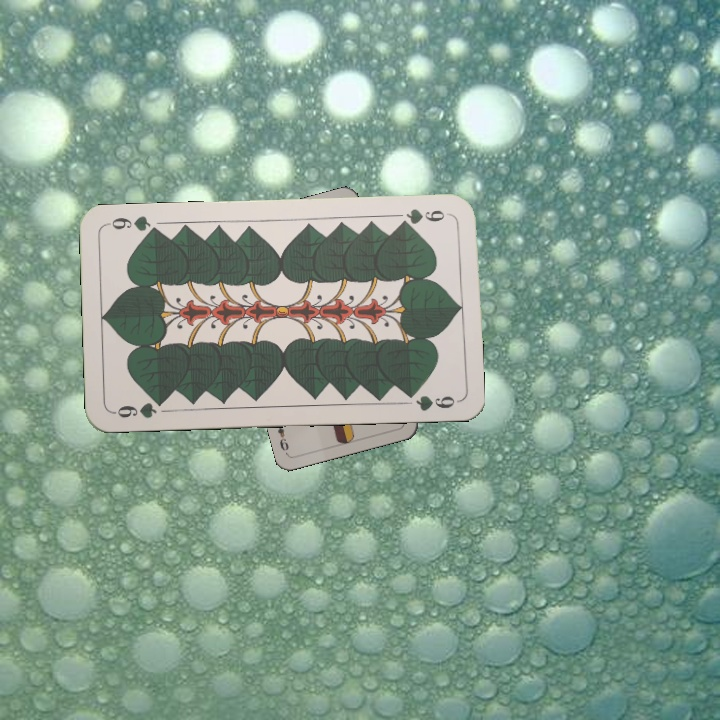G9: (110, 395, 168, 421), (394, 204, 447, 229)
